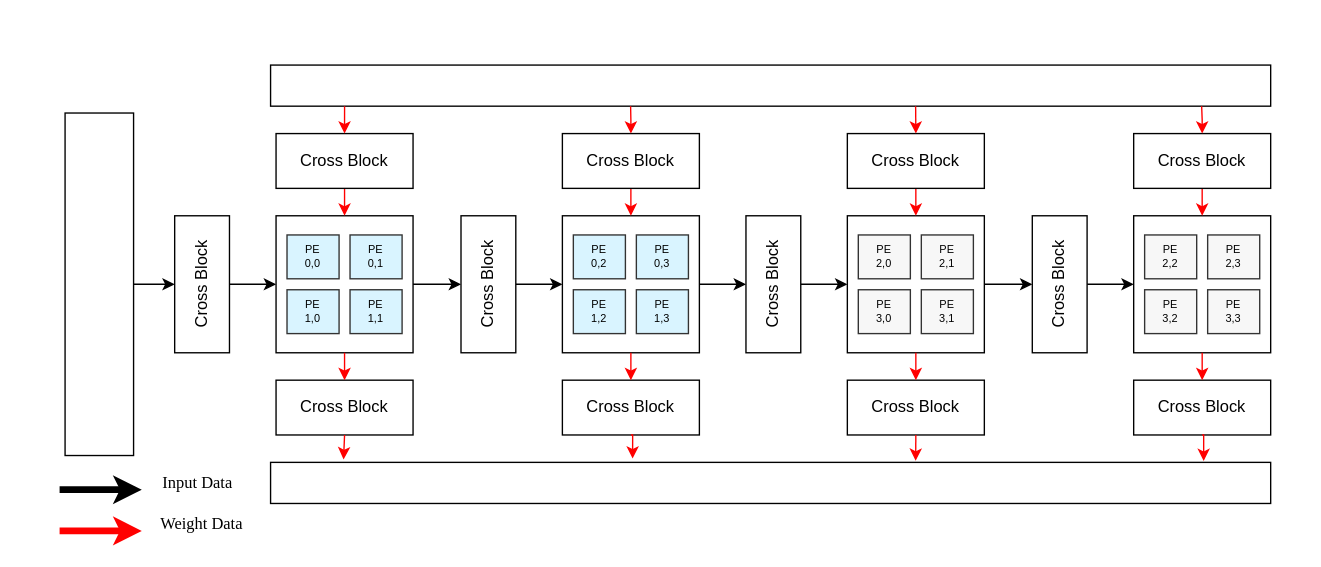
Some shapes in this 1321 by 567 pixel diagram are drawn without their labels. The shapes that lost their labels are listed below. From the top down, each one's centre as x and y in pixels, then its label:
At [770,85]: "Weight Buffer".
At [99,284]: "input buffer".
At [770,482]: "Output Buffer".
